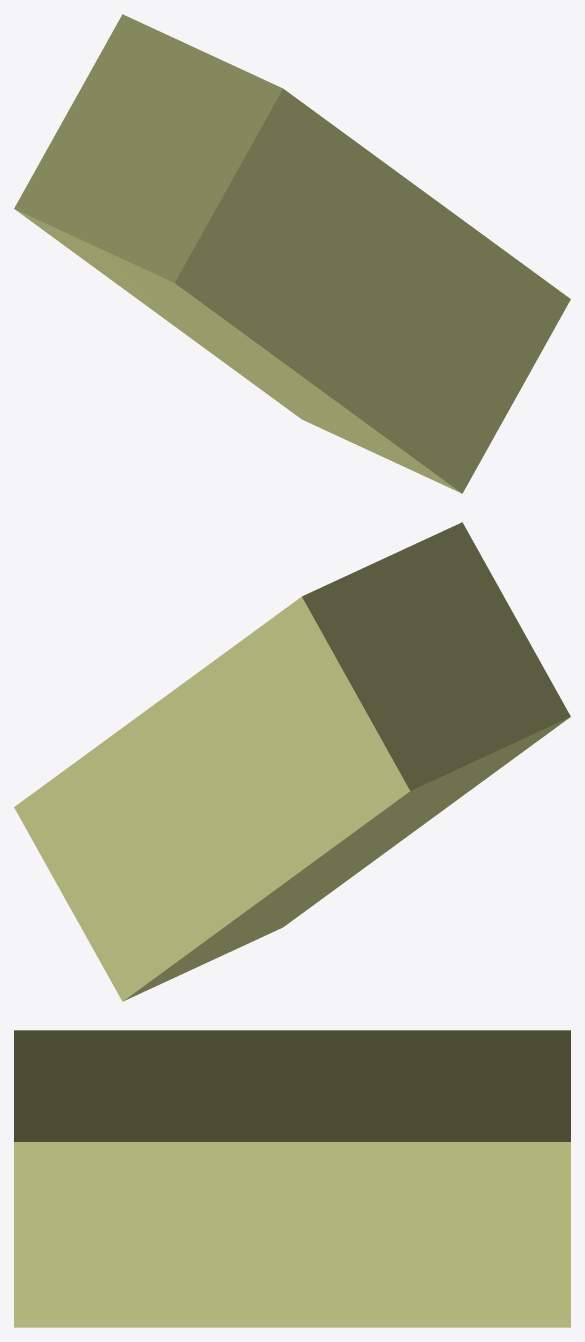
3 views of the same model, one above another, from view 1: azimuth 30°, elevation 25°; view 2: azimuth 150°, elevation 25°; view 3: azimuth 270°, elevation 25° (orthographic). The views are drawn at different scales.
Visible parts, largest first — view 1: 0_0_2_0_1_1_0_0_0_2_2; view 2: 0_0_2_0_1_1_0_0_0_2_2; view 3: 0_0_2_0_1_1_0_0_0_2_2.
Boxes of the visible parts, <box> form: 0_0_2_0_1_1_0_0_0_2_2: <box>14,14,570,493</box>; 0_0_2_0_1_1_0_0_0_2_2: <box>14,522,570,1001</box>; 0_0_2_0_1_1_0_0_0_2_2: <box>14,1030,570,1327</box>.
Bounding box in the file's own units: 4.86 × 4.86 × 9.
